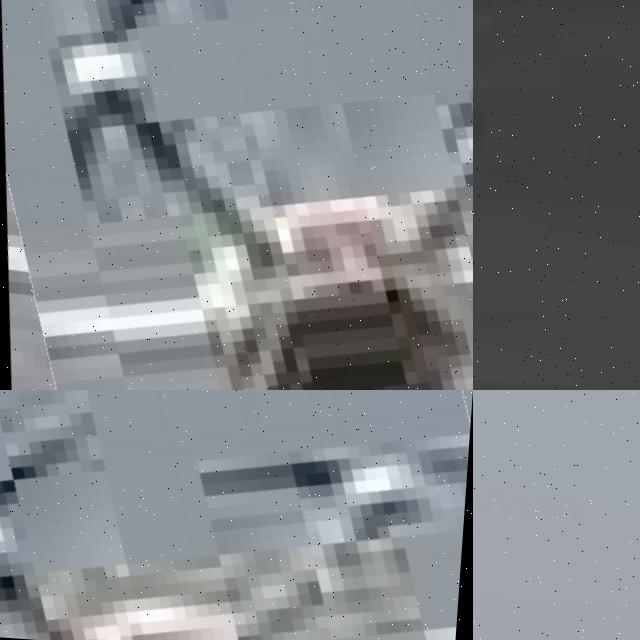drone: (0, 0, 473, 390), (0, 390, 473, 640)
